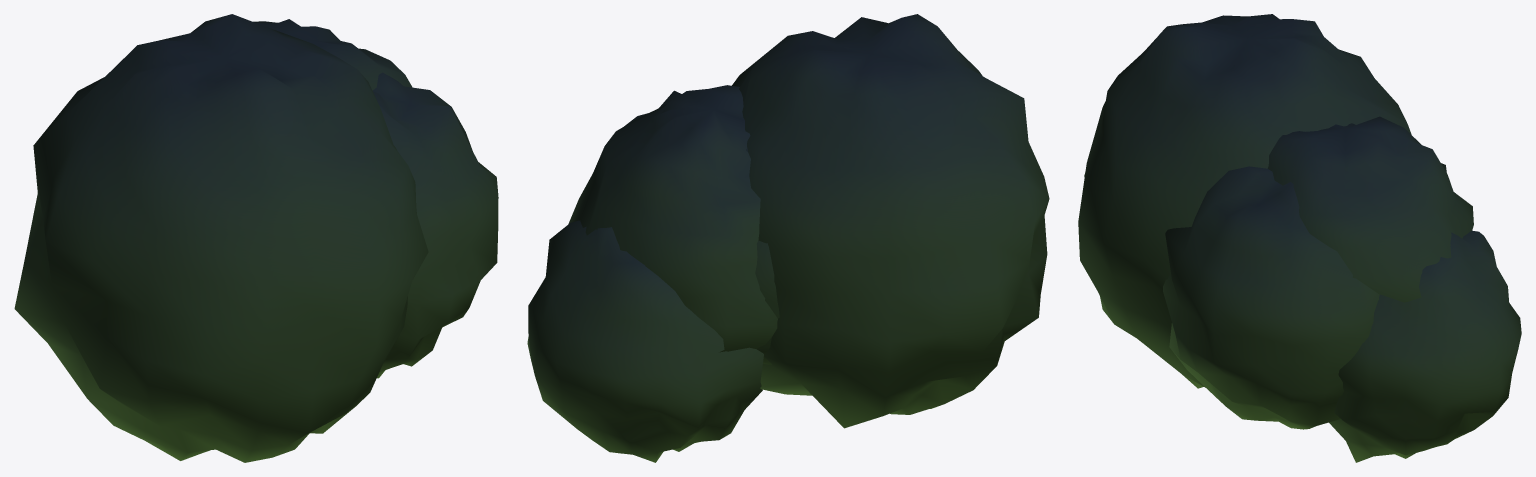
Rendered from SM_Bush.fbx.
3 renders of one model, left to right at view 1: azimuth 30°, elevation 25°; view 2: azimuth 150°, elevation 25°; view 3: azimuth 270°, elevation 25°, orthographic. The views are drawn at different scales.
Parts seen in each view (by area): view 1: SM_Bush; view 2: SM_Bush; view 3: SM_Bush.
Boxes of the visible parts, <box> form: SM_Bush: <box>14,14,498,462</box>; SM_Bush: <box>527,14,1049,462</box>; SM_Bush: <box>1078,14,1521,462</box>.
Size of the model in its own units: 1.92 by 1.67 by 1.87.
